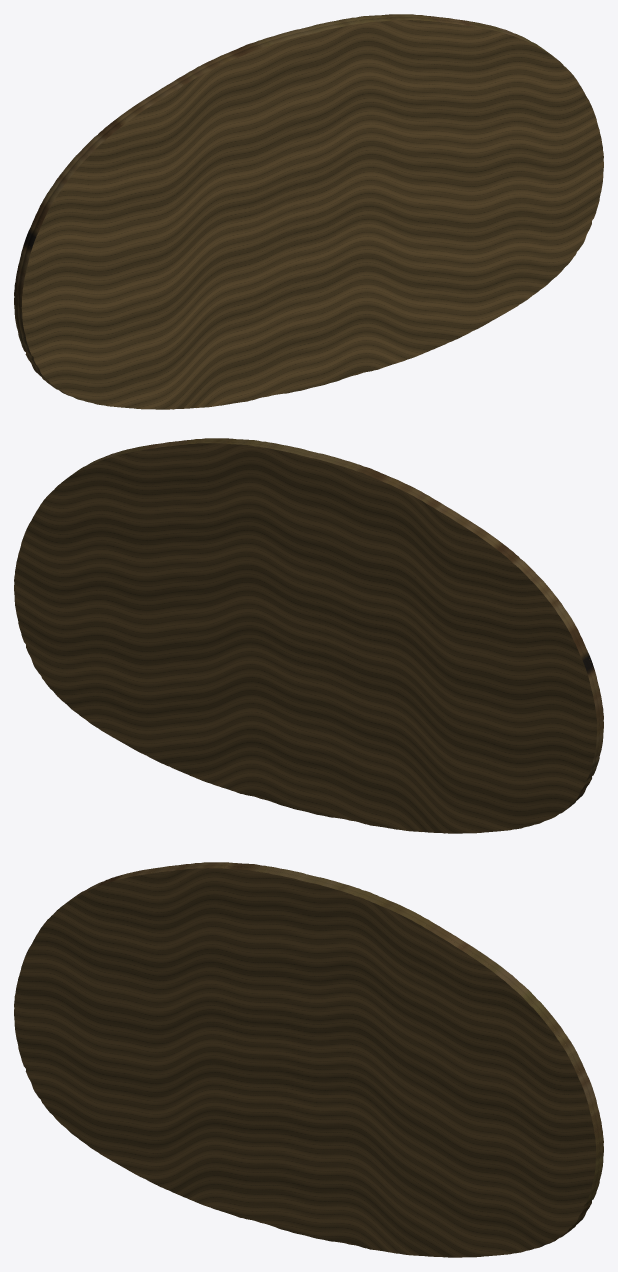
File: Grandma_Fish_Traced_Wood_Backing.fbx
3 renders of one model, top to bottom at view 1: azimuth 30°, elevation 25°; view 2: azimuth 150°, elevation 25°; view 3: azimuth 330°, elevation 25°, orthographic.
Visible parts, largest first — view 1: Grandma_Fish_Oval_Wood_Backing; view 2: Grandma_Fish_Oval_Wood_Backing; view 3: Grandma_Fish_Oval_Wood_Backing.
Part boxes in pixels (box(x1,y1,x2,y2)): Grandma_Fish_Oval_Wood_Backing: box(14, 14, 603, 409); Grandma_Fish_Oval_Wood_Backing: box(14, 438, 603, 833); Grandma_Fish_Oval_Wood_Backing: box(14, 862, 603, 1257).
Size of the model in its own units: 22.36 by 13.04 by 0.4869.
2 materials, 2 textured.
